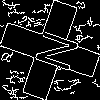N: (25, 25, 80, 74)
